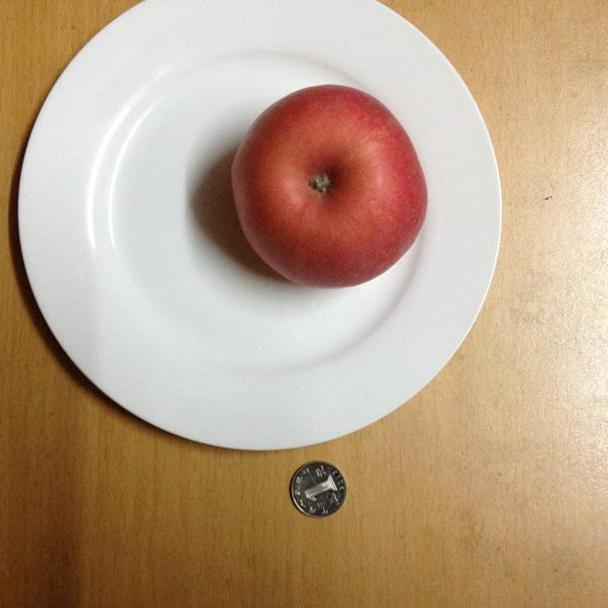apple: (230, 85, 427, 287)
